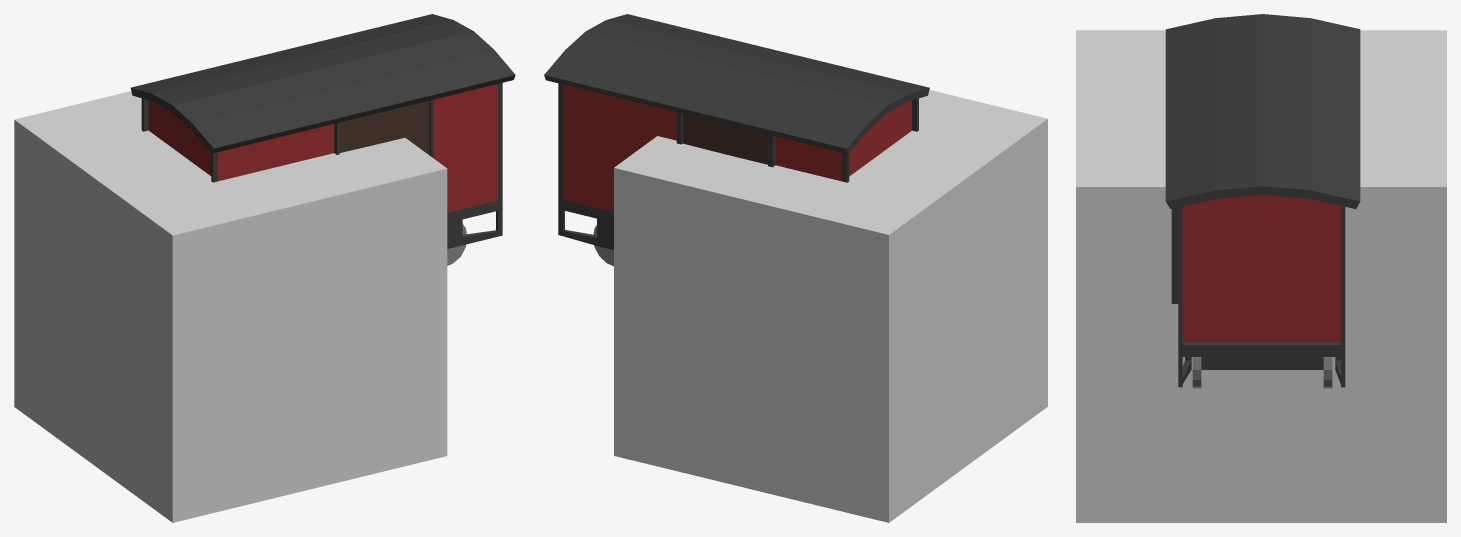
The model's file is boxcar.fbx.
3 renders of one model, left to right at view 1: azimuth 30°, elevation 25°; view 2: azimuth 150°, elevation 25°; view 3: azimuth 270°, elevation 25°, orthographic. The views are drawn at different scales.
Parts seen in each view (by area): view 1: Cube.001, Cube; view 2: Cube.001, Cube; view 3: Cube.001, Cube.
Part boxes in pixels (<box>): Cube.001: <box>14,91,447,522</box>; Cube: <box>130,14,515,265</box>; Cube.001: <box>614,90,1047,522</box>; Cube: <box>544,14,929,266</box>; Cube.001: <box>1076,30,1446,522</box>; Cube: <box>1165,14,1360,388</box>.
Size of the model in its own units: 278 by 237 by 200.
